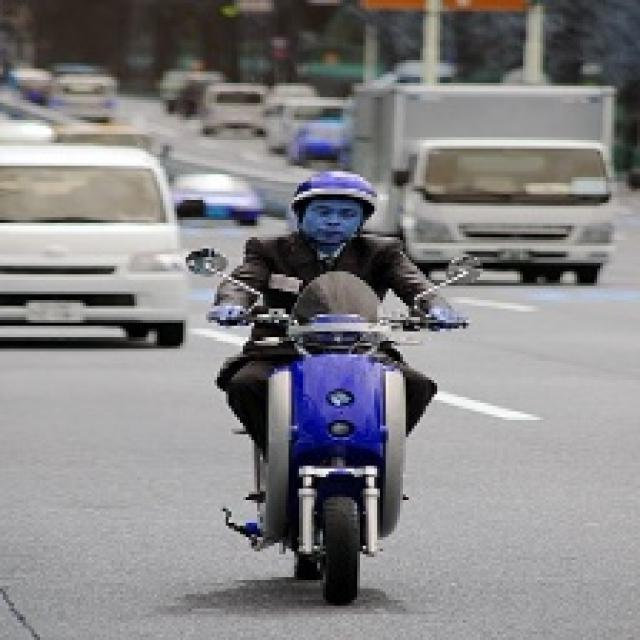motorcycle: (225, 297, 412, 607)
